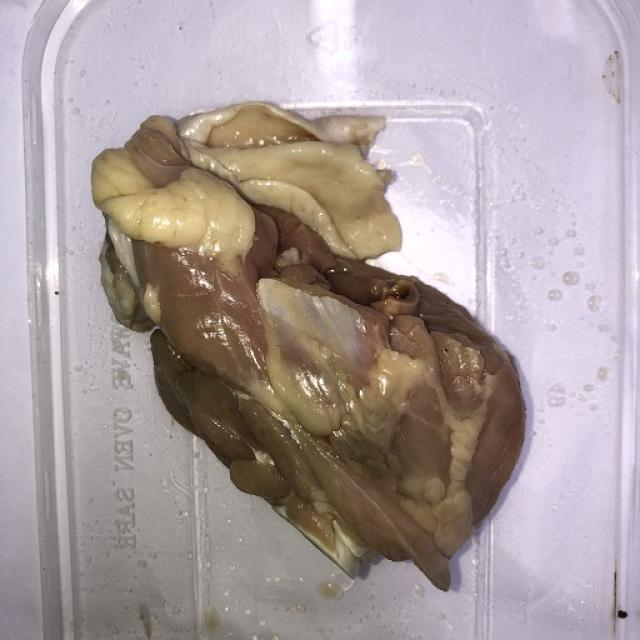chicken: (90, 100, 527, 591)
